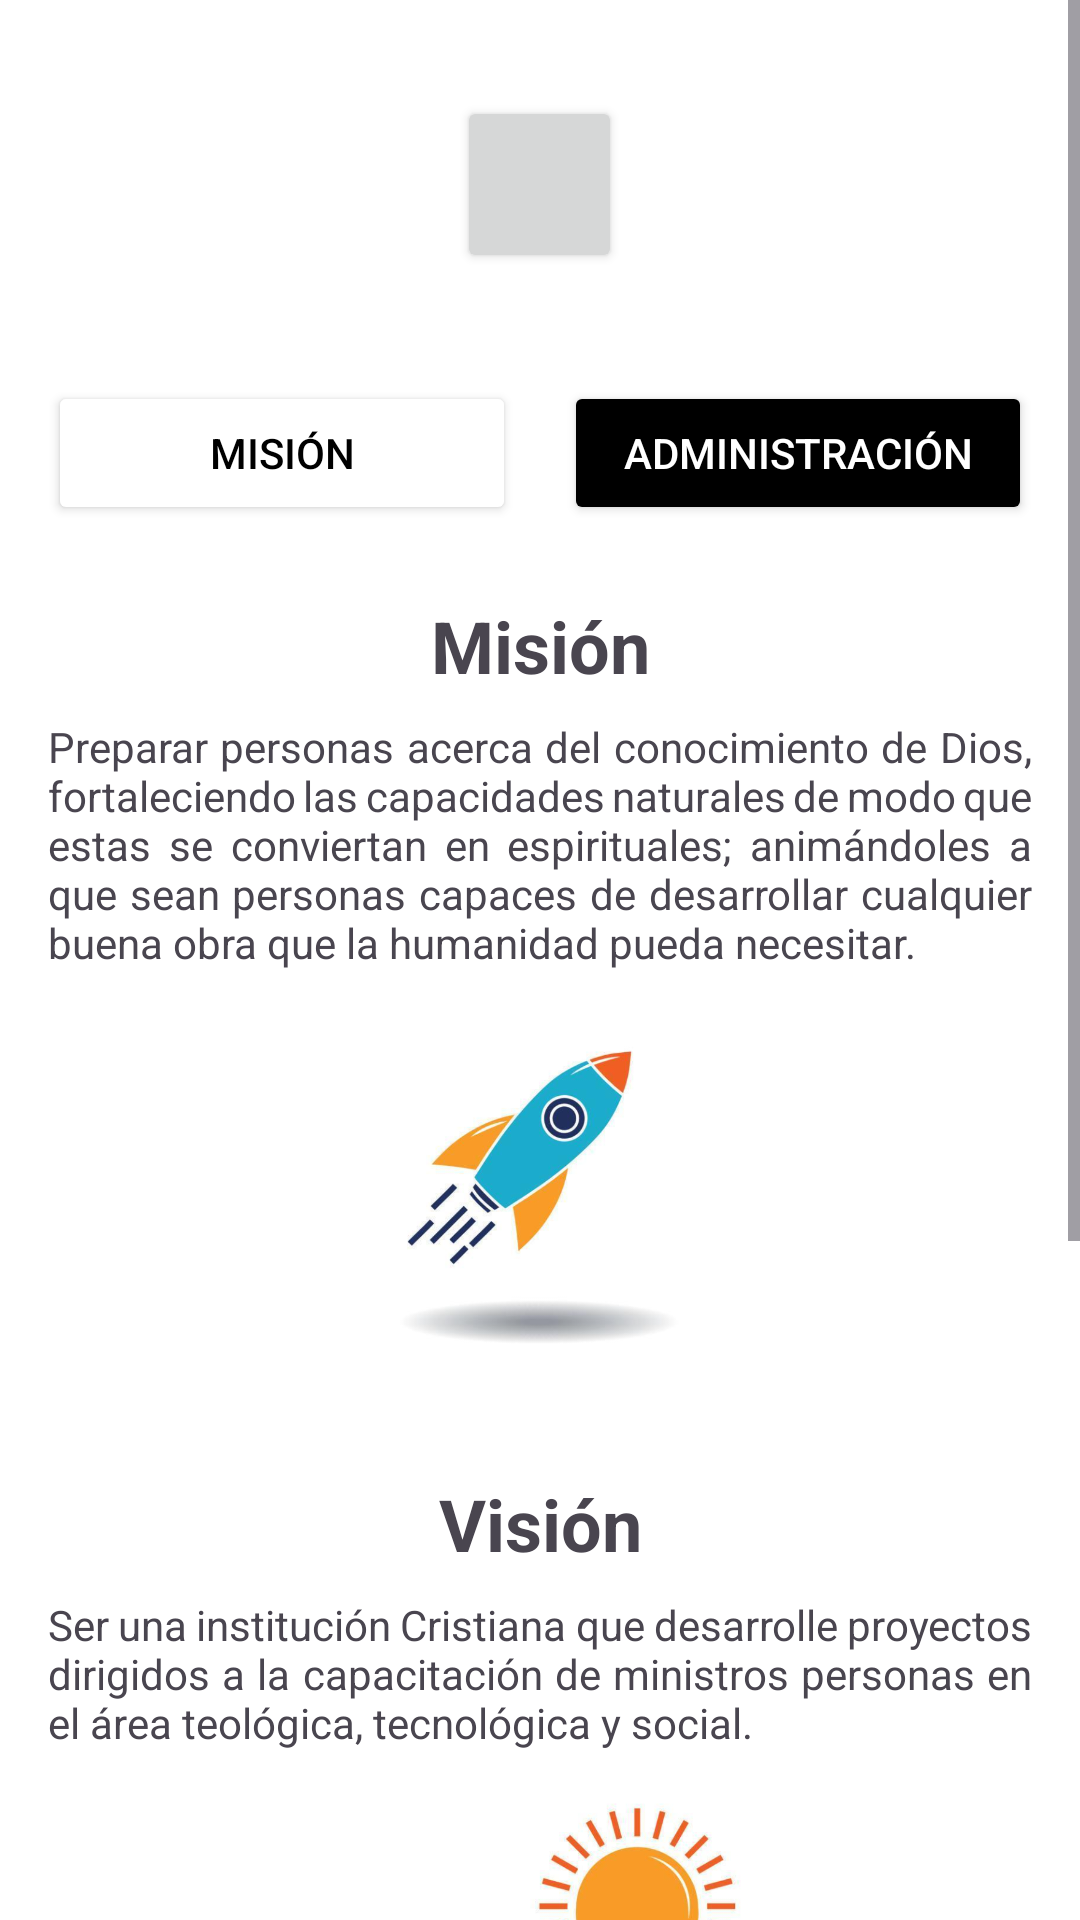

Named icons in this screenshot (1080×1920) and their bounding boxes, Rect(x1, y1, x2, y2):
mision: Rect(408, 1051, 656, 1340)
